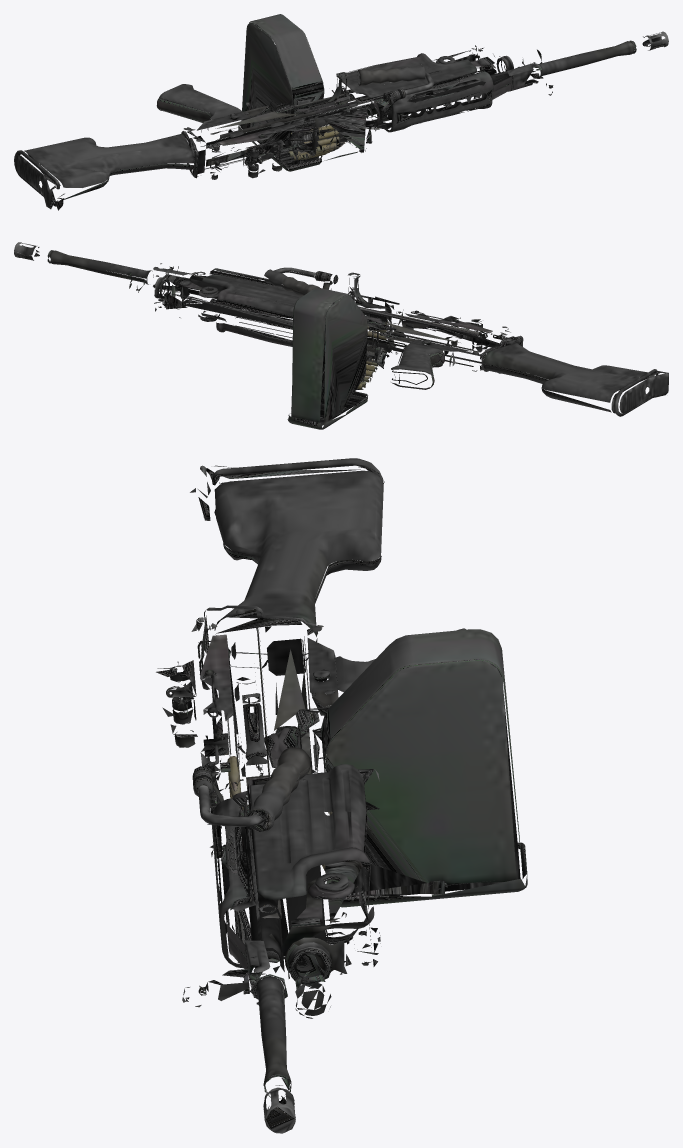
3 views of the same model, one above another, from view 1: azimuth 30°, elevation 25°; view 2: azimuth 150°, elevation 25°; view 3: azimuth 270°, elevation 25° (orthographic). The views are drawn at different scales.
Visible parts, largest first — view 1: w_m249; view 2: w_m249; view 3: w_m249.
Part boxes in pixels (<box>): w_m249: <box>14,14,668,210</box>; w_m249: <box>14,242,668,429</box>; w_m249: <box>156,458,527,1133</box>.
Size of the model in its own units: 1.64 by 0.3077 by 0.4177.
Materials: 1 (1 with a texture image).
